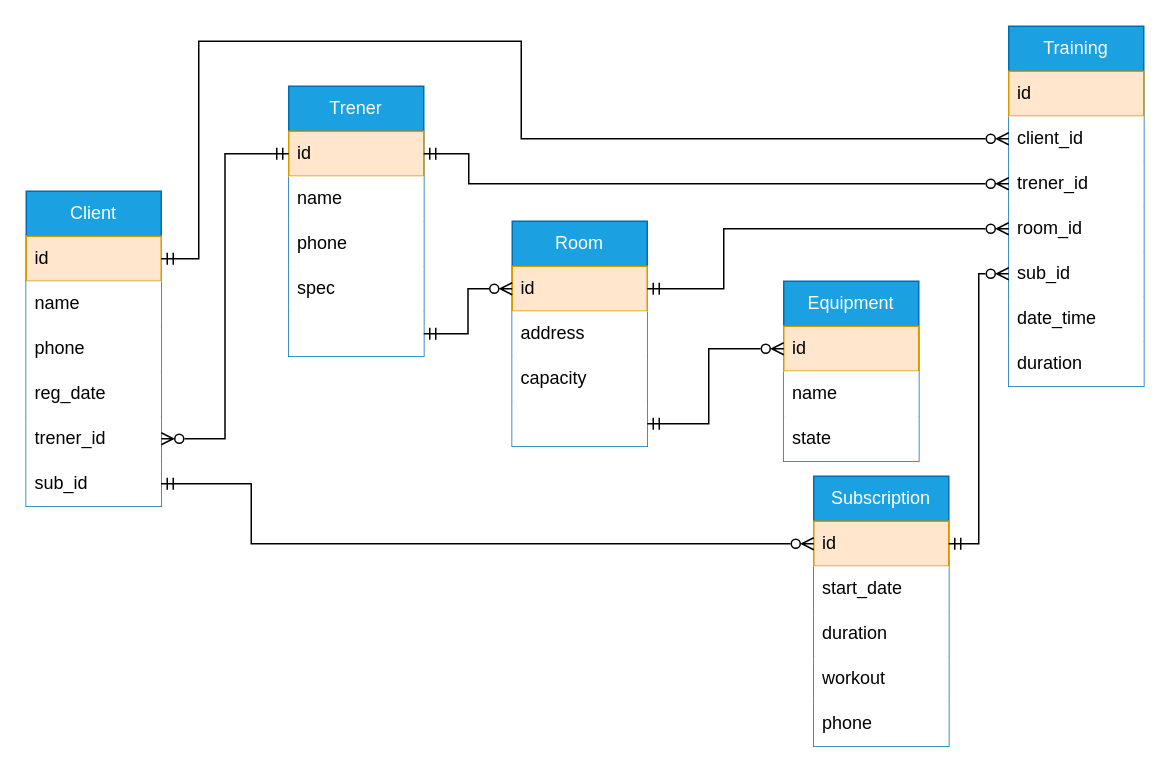
This 1170x773 diagram has some shape labels left out. The centre of each missing label's shape, as x and y in pixels:
equipments_id: [579,423]
main_room_id: [355,333]
